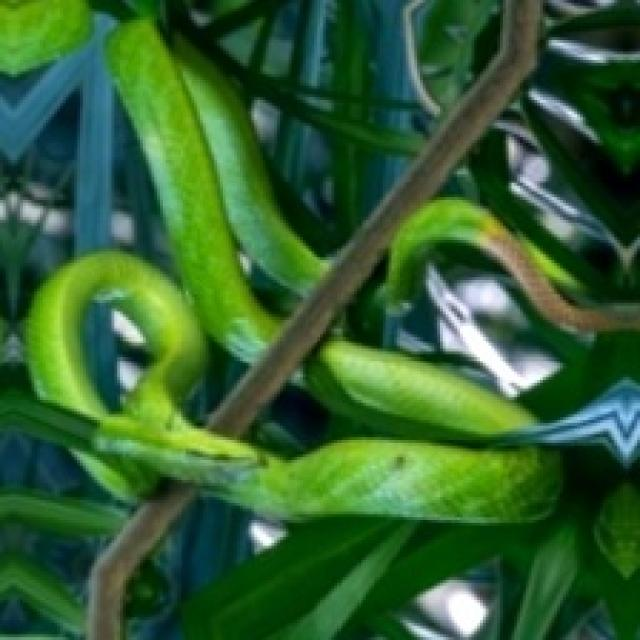red-tailed green ratsnake: (30, 22, 560, 522), (388, 198, 640, 331), (306, 339, 535, 442)
